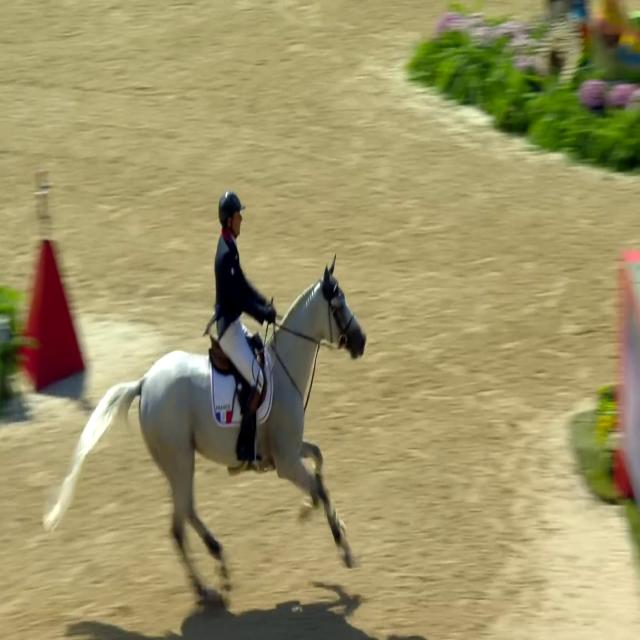Horse Rider: (194, 143, 296, 485)
Horse Running: (25, 244, 373, 591)
